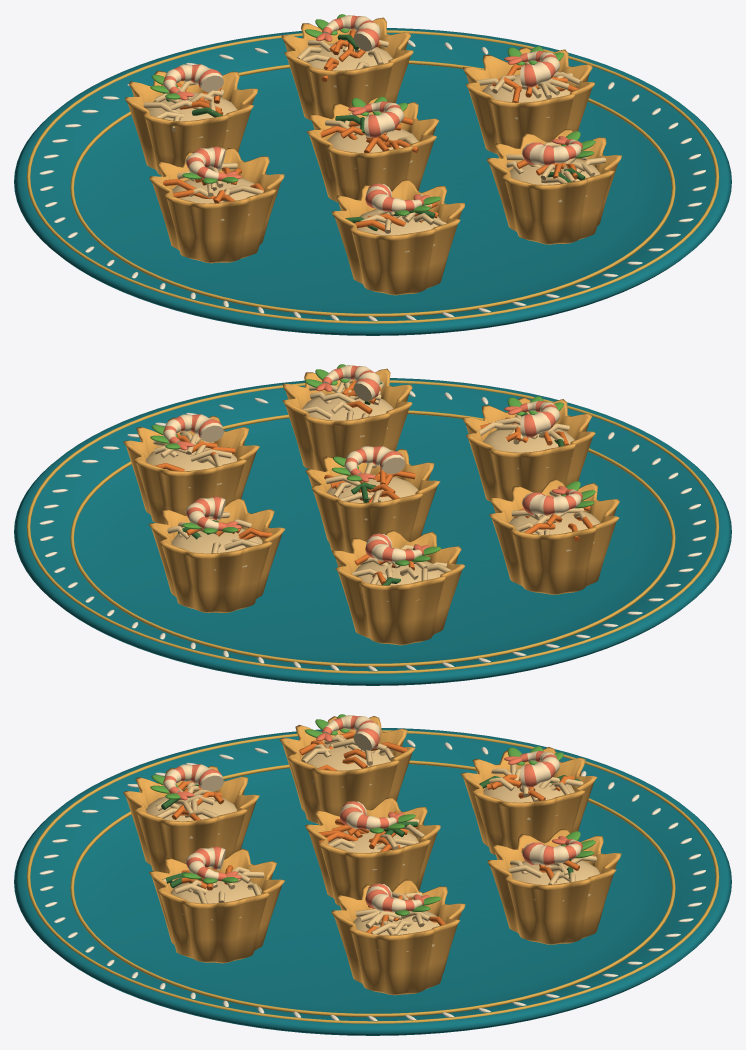
3 views of the same model, one above another, from view 1: azimuth 30°, elevation 25°; view 2: azimuth 150°, elevation 25°; view 3: azimuth 270°, elevation 25° (orthographic).
Parts seen in each view (by area): view 1: Porcelain platter, Scalloped top hats, Vegetable filling, Rim decoration, Poached prawns, Herb garnish; view 2: Porcelain platter, Scalloped top hats, Vegetable filling, Rim decoration, Poached prawns, Herb garnish; view 3: Porcelain platter, Scalloped top hats, Vegetable filling, Rim decoration, Poached prawns, Herb garnish.
Boxes of the visible parts, bbox=[...] form: Porcelain platter: bbox=[14, 28, 731, 335]; Scalloped top hats: bbox=[125, 17, 621, 295]; Vegetable filling: bbox=[143, 30, 606, 252]; Rim decoration: bbox=[26, 30, 719, 323]; Poached prawns: bbox=[163, 15, 582, 212]; Herb garnish: bbox=[150, 14, 595, 215]; Porcelain platter: bbox=[14, 378, 731, 685]; Scalloped top hats: bbox=[123, 368, 619, 645]; Vegetable filling: bbox=[146, 379, 600, 601]; Rim decoration: bbox=[26, 380, 719, 673]; Poached prawns: bbox=[163, 365, 582, 562]; Herb garnish: bbox=[150, 364, 595, 565]; Porcelain platter: bbox=[14, 728, 731, 1035]; Scalloped top hats: bbox=[123, 716, 621, 995]; Vegetable filling: bbox=[146, 732, 600, 951]; Rim decoration: bbox=[26, 730, 719, 1023]; Poached prawns: bbox=[163, 715, 582, 912]; Herb garnish: bbox=[150, 714, 595, 915].
Bounding box in the file's own units: 0.296 × 0.0506 × 0.296.
